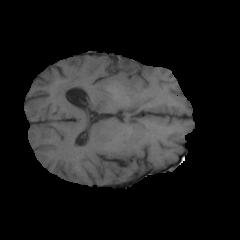glioma: (53, 58, 156, 113)
